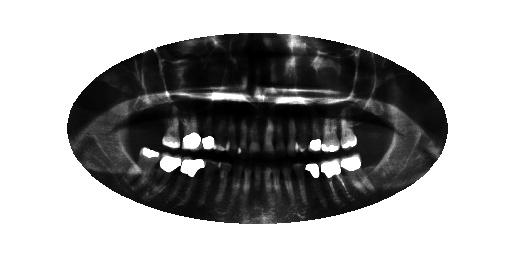i10decay: (232, 163, 241, 217)
i11decay: (216, 159, 231, 212)
i12decay: (201, 159, 215, 209)
i13healthy: (177, 159, 205, 208)
i14healthy: (157, 155, 184, 204)
i15healthy: (128, 150, 161, 186)
i16healthy: (123, 144, 137, 173)
i1healthy: (341, 157, 363, 182)
i2healthy: (319, 160, 349, 198)
i3healthy: (306, 162, 324, 213)
i4decay: (294, 162, 311, 209)
i5decay: (281, 163, 296, 205)
i6decay: (271, 161, 281, 200)
i7decay: (264, 164, 271, 207)
i8decay: (252, 164, 264, 208)
i9decay: (242, 165, 250, 220)
u10decay: (226, 116, 236, 157)
u11healthy: (213, 116, 228, 154)
u12healthy: (200, 110, 214, 155)
u13healthy: (182, 109, 200, 154)
u14healthy: (162, 104, 181, 150)
u15loss: (150, 103, 163, 141)
u16loss: (138, 109, 150, 135)
u1healthy: (338, 118, 357, 151)
u2healthy: (321, 120, 340, 156)
u3healthy: (308, 120, 320, 154)
u4decay: (296, 118, 307, 154)
u5decay: (286, 118, 296, 158)
u6decay: (273, 114, 284, 157)
u7decay: (262, 115, 273, 156)
u8decay: (248, 116, 261, 158)
u9decay: (237, 112, 248, 160)
